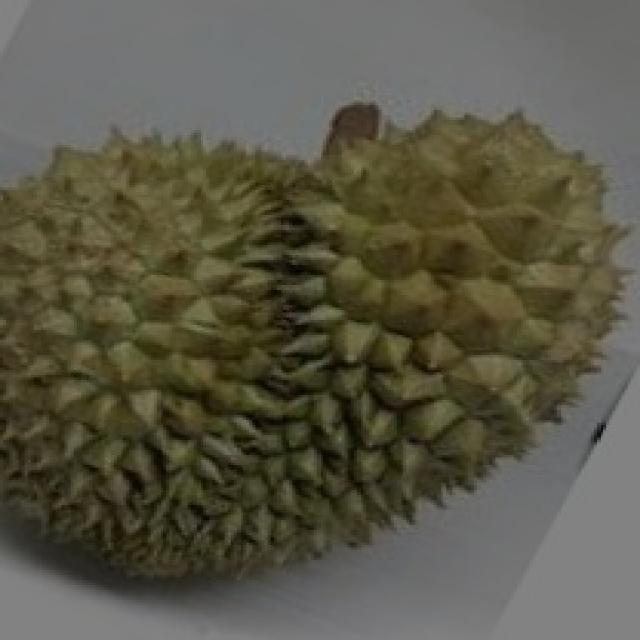fruit: (249, 223, 640, 625), (3, 267, 366, 625)
